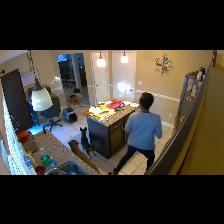person: (109, 93, 162, 174)
